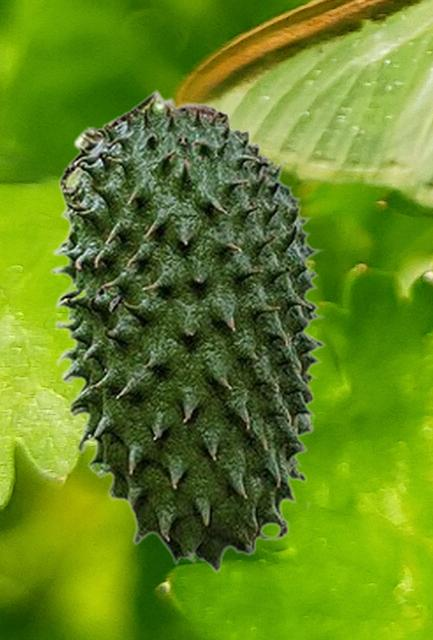guyabano: (50, 88, 326, 572)
